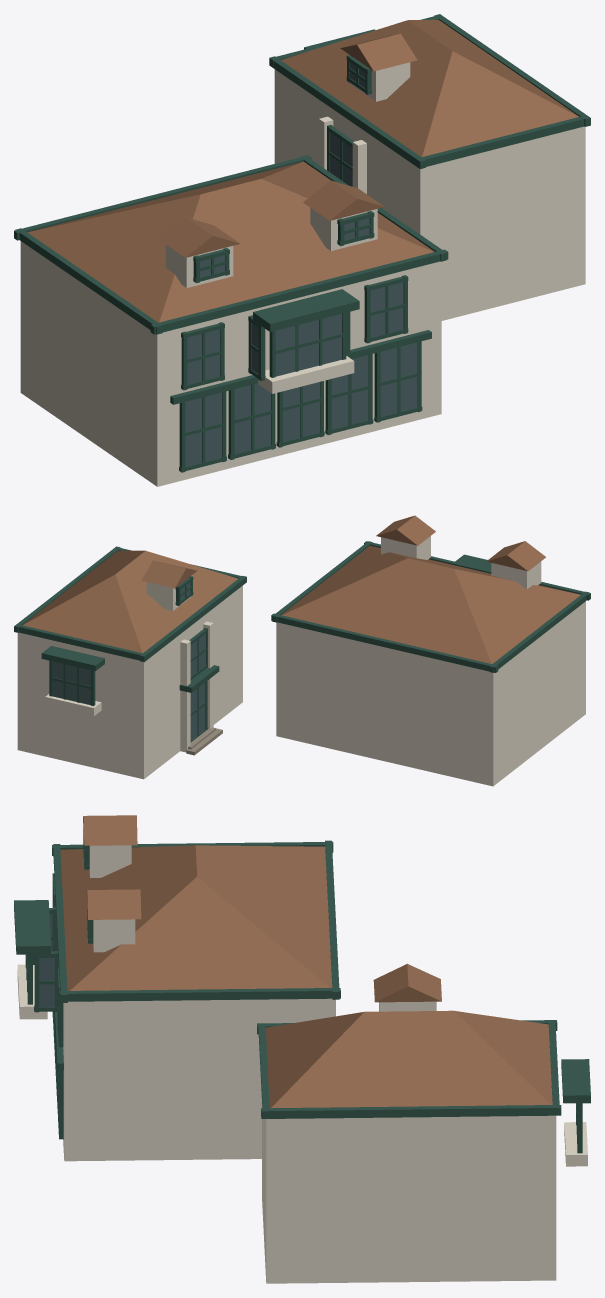
Rendered from villa-le-bec-hero-v2.glb.
The picture shows the model from 3 angles, top to bottom: view 1: azimuth 30°, elevation 25°; view 2: azimuth 150°, elevation 25°; view 3: azimuth 270°, elevation 25°; orthographic projection. The views are drawn at different scales.
Visible parts, largest first — view 1: villa-le-bec-hero-v2; view 2: villa-le-bec-hero-v2; view 3: villa-le-bec-hero-v2.
Part boxes in pixels (x1,y1,x2,y2): villa-le-bec-hero-v2: [14, 14, 590, 486]; villa-le-bec-hero-v2: [14, 515, 590, 786]; villa-le-bec-hero-v2: [14, 815, 590, 1283].
Bounding box in the file's own units: 11.26 × 4.54 × 9.96.
